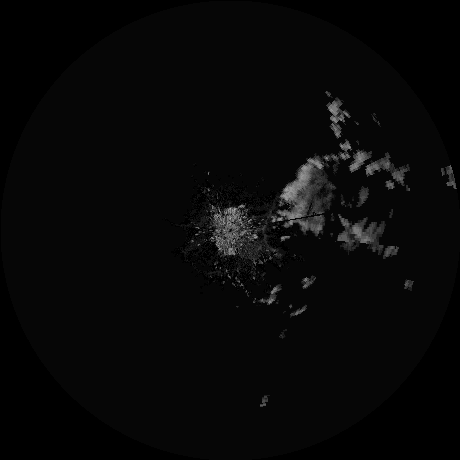frontgust: (261, 205, 275, 253)
